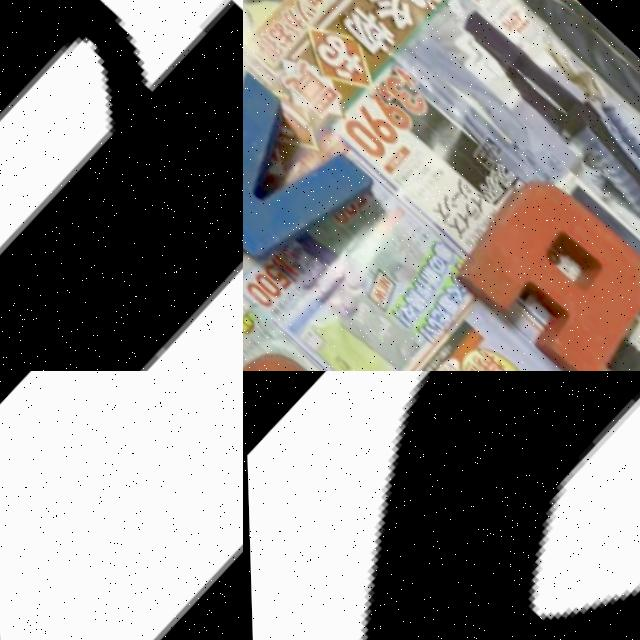A: (450, 170, 640, 371)
D: (0, 0, 243, 371)
I: (71, 371, 243, 640)
V: (243, 371, 640, 640), (243, 64, 379, 301)
